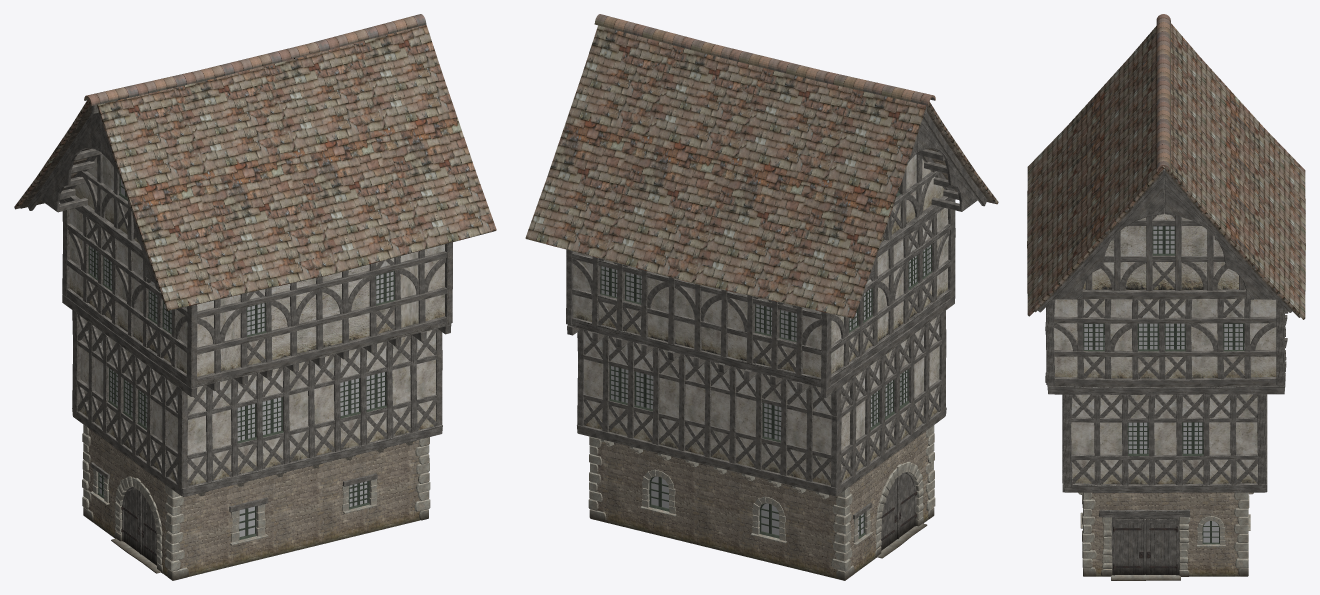
Rendered from 2_Village.obj.
3 renders of one model, left to right at view 1: azimuth 30°, elevation 25°; view 2: azimuth 150°, elevation 25°; view 3: azimuth 270°, elevation 25°, orthographic. The views are drawn at different scales.
Visible parts, largest first — view 1: WideRoofHigh3, WideMiddle2, WideTop3, LongBase2; view 2: WideRoofHigh3, WideMiddle2, WideTop3, LongBase2; view 3: WideRoofHigh3, WideTop3, WideMiddle2, LongBase2.
Boxes of the visible parts, x1,y1,x2,y2 form: WideRoofHigh3: (14, 14, 496, 310); WideMiddle2: (72, 301, 442, 496); WideTop3: (62, 195, 452, 396); LongBase2: (82, 424, 430, 580); WideRoofHigh3: (525, 14, 998, 318); WideMiddle2: (577, 302, 946, 499); WideTop3: (566, 195, 955, 397); LongBase2: (588, 425, 935, 580); WideRoofHigh3: (1027, 14, 1305, 319); WideTop3: (1045, 289, 1288, 394); WideMiddle2: (1062, 386, 1267, 494); LongBase2: (1080, 492, 1250, 580).
Size of the model in its own units: 182 by 241 by 142.
25 materials, 21 textured.
